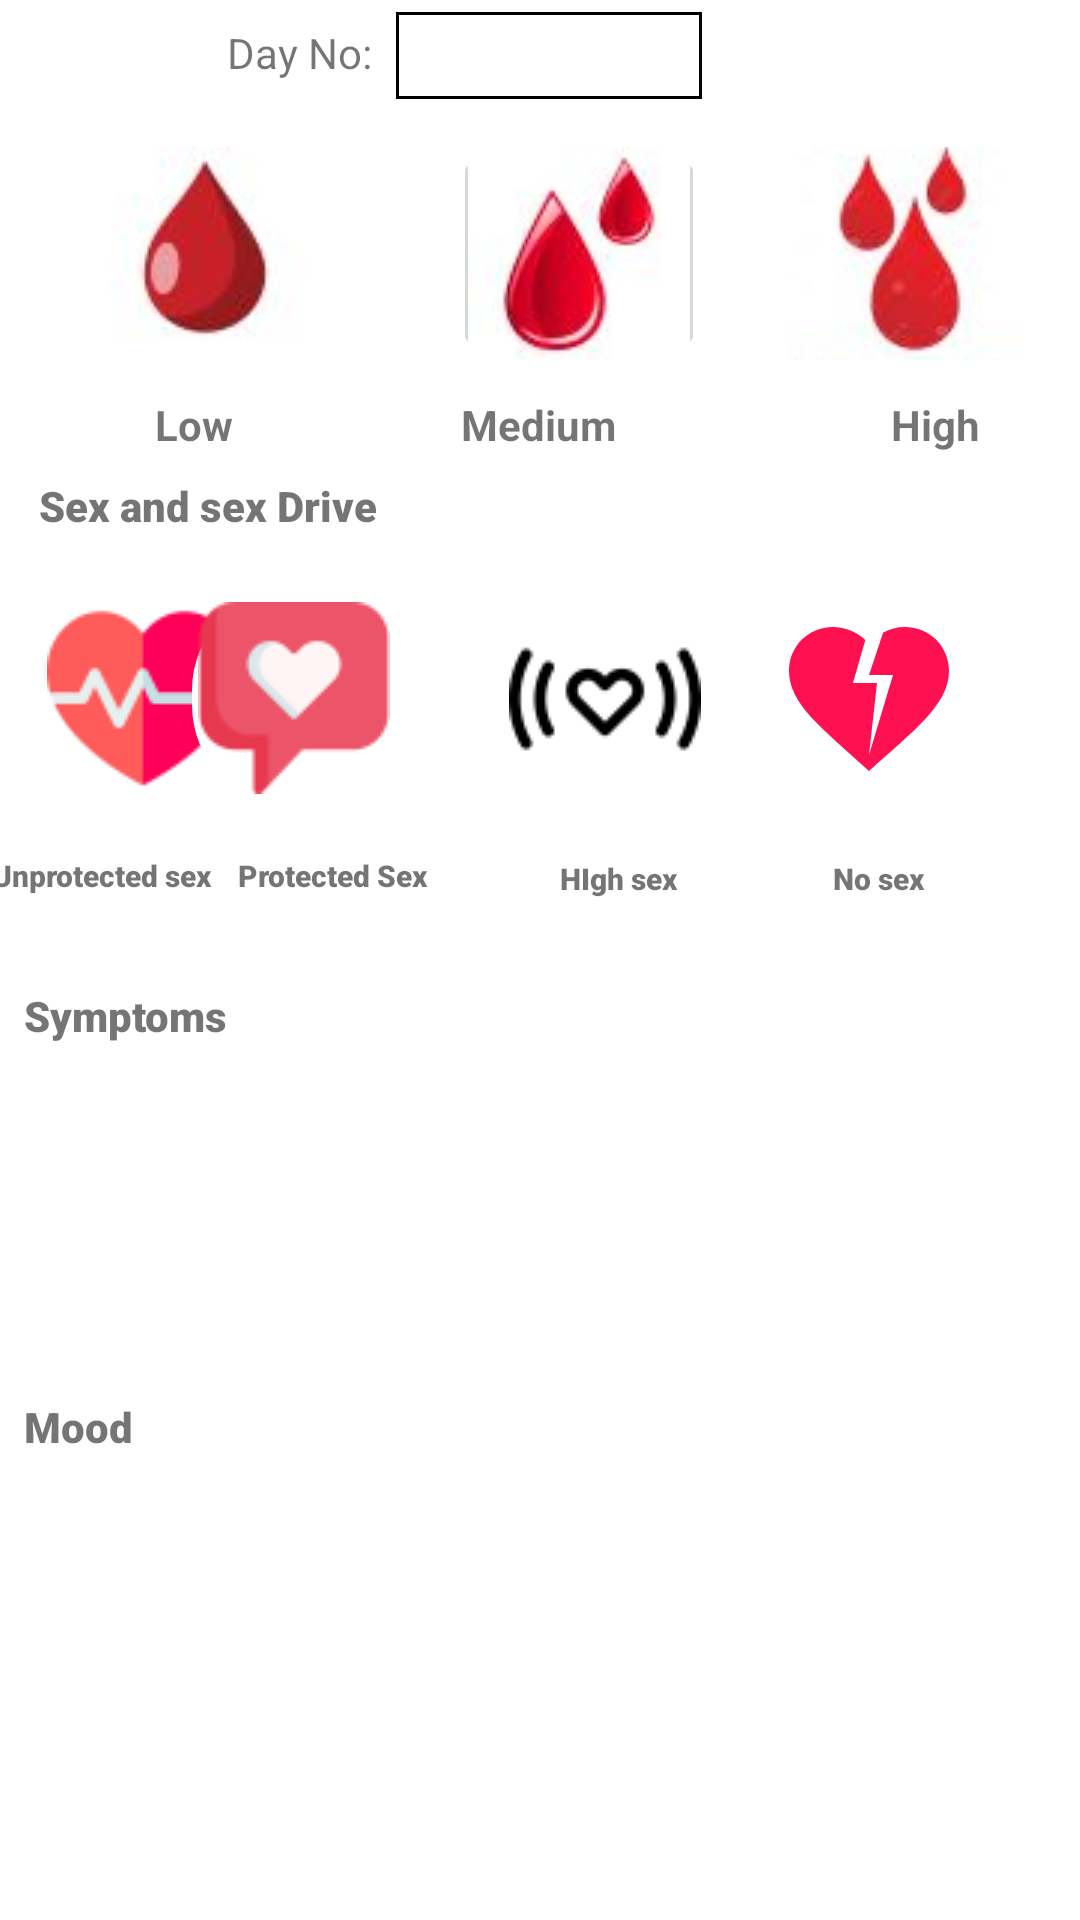

Where icons sit on this 1080w x 1920h app screen, as (x1, y1, x2, y2):
drop: (141, 161, 269, 334)
heart broken: (789, 627, 949, 771)
love insta: (192, 602, 390, 794)
